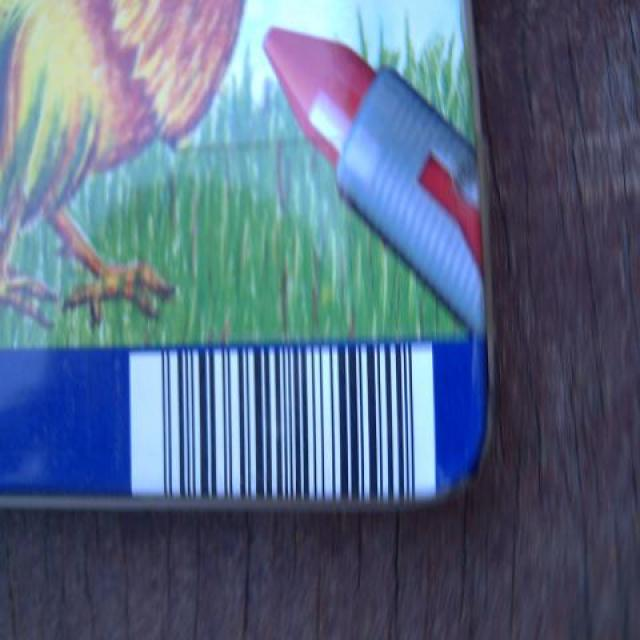Barcode: (123, 332, 448, 520)
